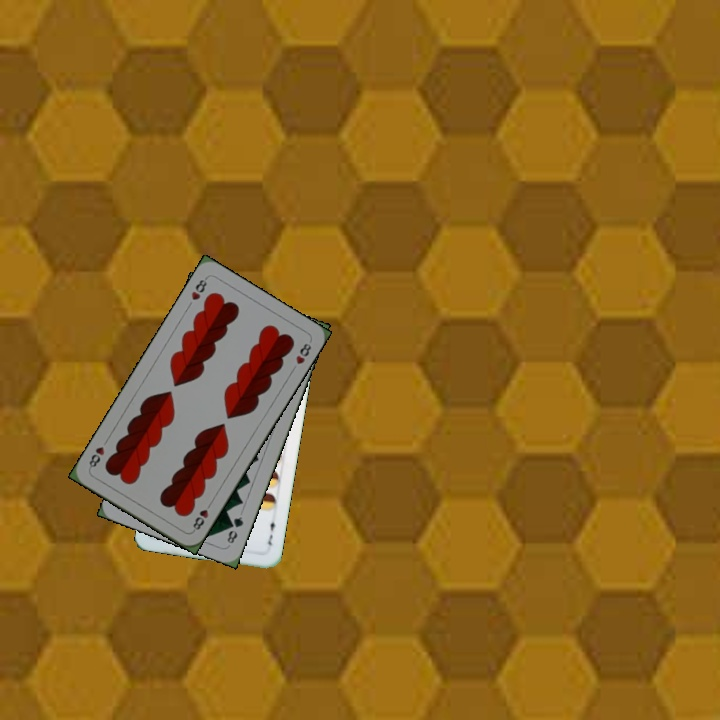E7: (264, 514, 278, 549)
G8: (223, 512, 246, 546)
H8: (188, 497, 215, 534), (187, 273, 210, 303)
